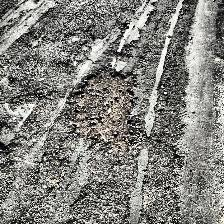pothole: (64, 66, 146, 156)
